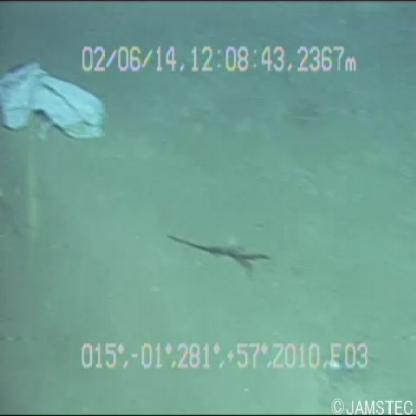Rác: (1, 69, 123, 161)
